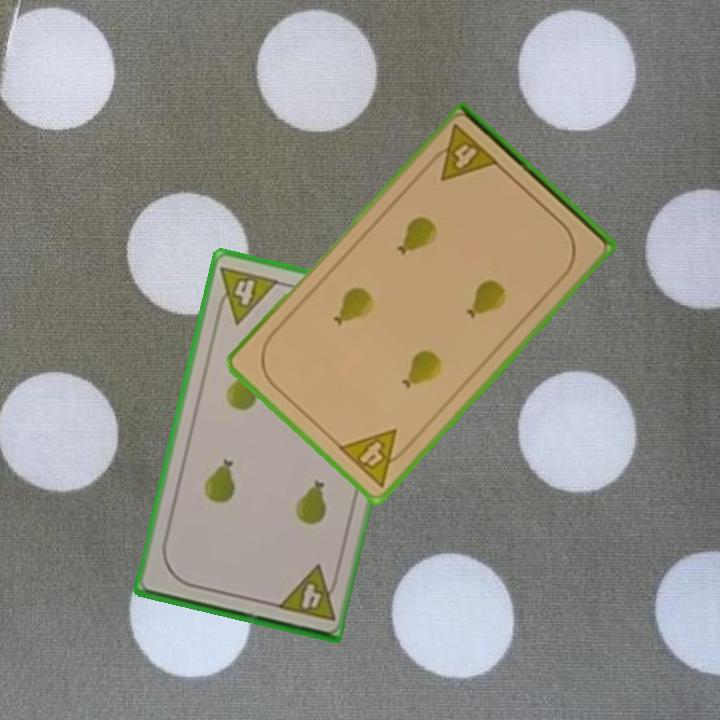4p: (334, 425, 415, 490), (423, 120, 502, 185), (211, 262, 282, 327), (273, 562, 342, 624)
